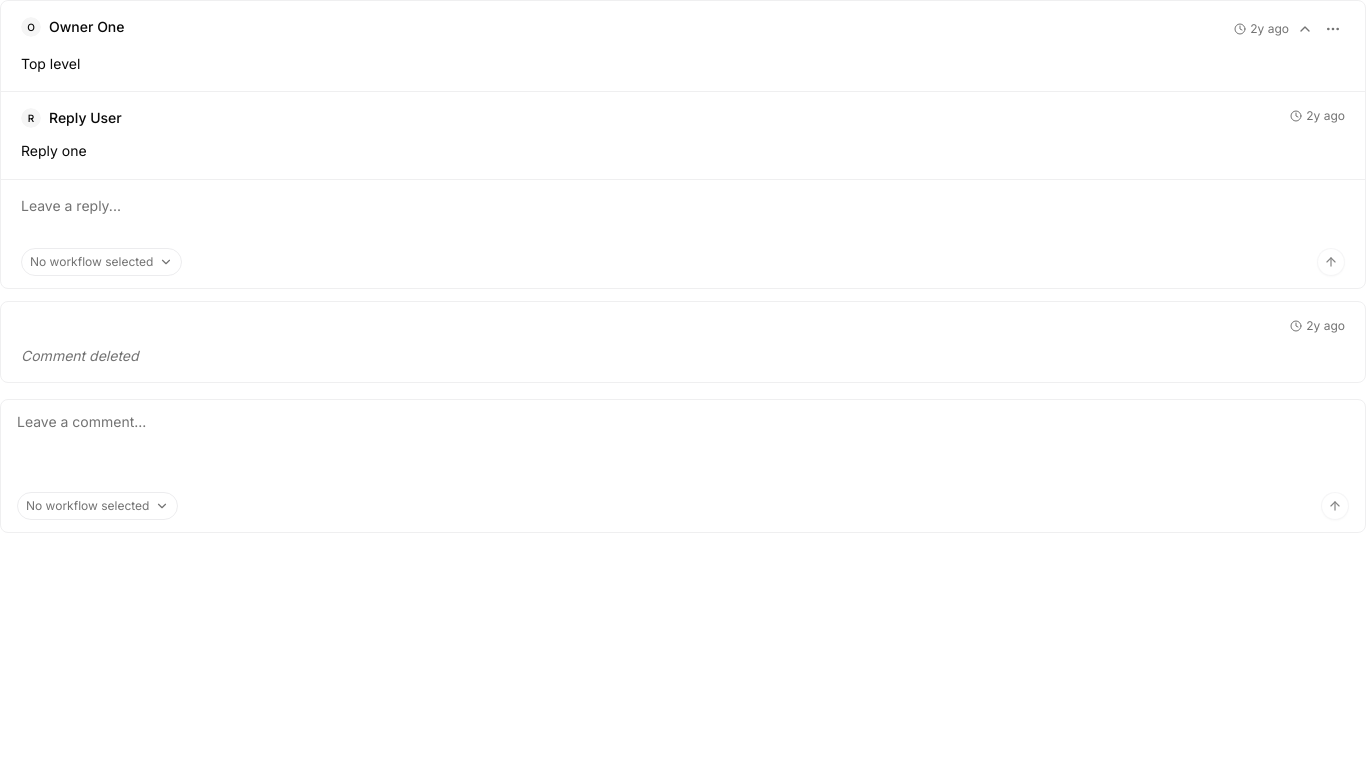
CommentSection › toggles replies visibility for a parent thread
The image size is (1366, 768).
Click the 1st button named "Hide replies": (1305, 29) 1293,17 -> 1317,41
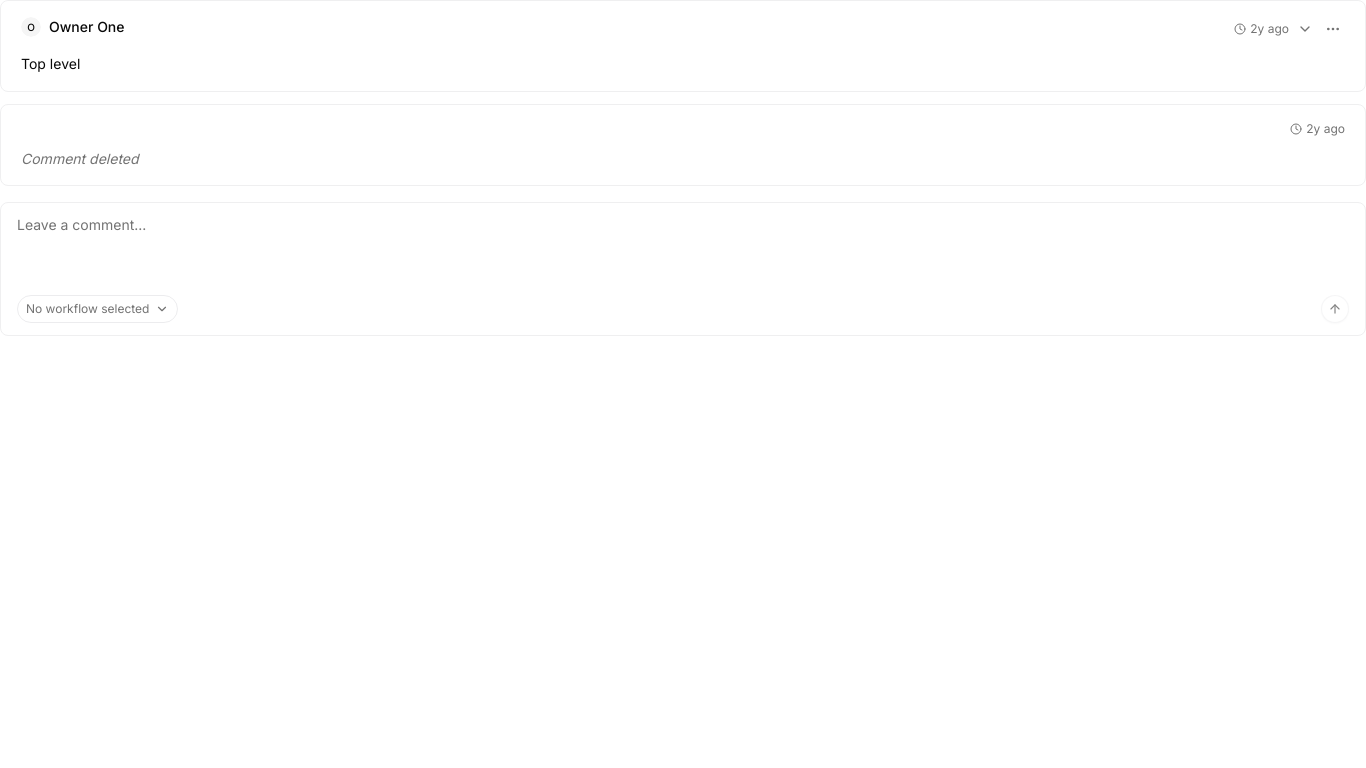
Expected: the field with placeholder "Leave a reply..." is not shown
Result: the text "Reply one" is gone
